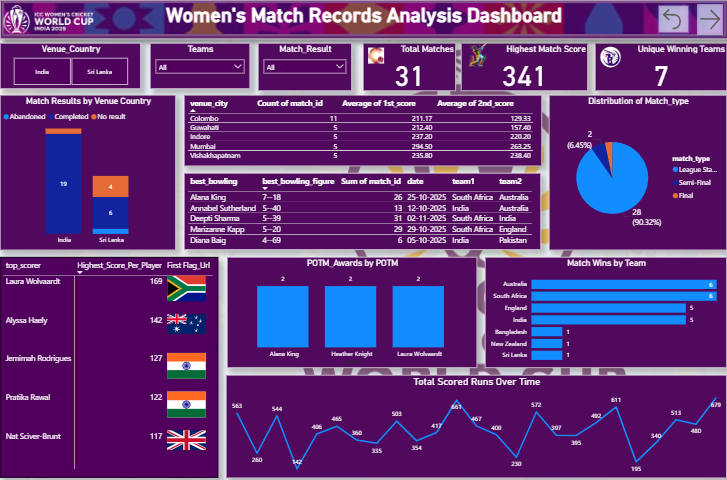

The page's visual inventory and layout, read from the dashboard file:
{"tool":"powerbi","page":{"name":"Match_Records","canvas":[1450,950],"ordinal":0},"visuals":[{"type":"image","box":[23.3,9.7,1407.6,71.7],"z":0},{"type":"card","title":"Total Matches","fields":{"Values":["match_records.match_id"]},"box":[725.1,93.1,180.3,93.1],"z":1000},{"type":"card","title":"Unique Winning Teams","fields":{"Values":["match_records.Unique_Winning_Team"]},"box":[1174.9,93.1,255.9,93.1],"z":2000},{"type":"card","title":"Highest Match Score","fields":{"Values":["match_records.2nd_score"]},"box":[915.1,93.1,246.2,93.1],"z":3000},{"type":"textbox","box":[21.3,9.7,1411.4,75.6],"z":4000},{"type":"pieChart","title":"Distribution of Match_type","fields":{"Category":["match_records.match_type"],"Y":["match_records.match_type"]},"box":[1085.7,193.9,345.1,300.5],"z":5000},{"type":"columnChart","title":"Match Results by Venue Country","fields":{"Category":["match_records.venue_country"],"Y":["match_records.result"],"Series":["match_records.result"]},"box":[21.3,193.9,341.2,300.5],"z":6000},{"type":"image","box":[1174.9,93.1,60.1,54.3],"z":7000},{"type":"tableEx","fields":{"Values":["match_records.venue_city","match_records.match_id","match_records.1st_score","match_records.2nd_score"]},"box":[378.1,193.9,694.1,137.7],"z":8000},{"type":"tableEx","fields":{"Values":["match_records.best_bowling","match_records.best_bowling_figure","match_records.match_id","match_records.date","match_records.team1","match_records.team2"]},"box":[378.1,345.1,692.1,149.3],"z":9000},{"type":"slicer","title":"Match_Result","fields":{"Values":["match_records.result"]},"box":[521.5,93.1,182.2,93.1],"z":10000},{"type":"slicer","title":"Venue_Country","fields":{"Values":["match_records.venue_country"]},"box":[21.3,93.1,273.4,89.2],"z":11000},{"type":"slicer","title":"Teams","fields":{"Values":["match_records.team1"]},"box":[312.1,93.1,193.9,89.2],"z":12000},{"type":"lineChart","title":"Total Scored Runs Over Time","fields":{"Category":["match_records.date"],"Y":["match_records.Total_Wins"]},"box":[459.5,736.7,971.3,199.7],"z":13000},{"type":"clusteredColumnChart","fields":{"Category":["match_records.POTM"],"Y":["match_records.POTM_Awards"]},"box":[461.4,508,484.7,215.2],"z":14000},{"type":"image","box":[915.1,85.3,62,62],"z":15000},{"type":"image","box":[727,96.9,46.5,40.7],"z":16000},{"type":"actionButton","box":[1364.9,9.7,65.9,75.6],"z":17000},{"type":"image","box":[23.3,11.6,184.2,71.7],"z":20000},{"type":"actionButton","box":[1289.3,11.6,75.6,69.8],"z":21000},{"type":"pivotTable","fields":{"Rows":["match_records.top_scorer"],"Values":["match_records.Highest_Score_Per_Player","Players.Flag_Url"]},"box":[21.3,508,422.7,428.5],"z":22000},{"type":"barChart","title":"Match Wins by Team","fields":{"Category":["match_records.winning_team"],"Y":["match_records.match_type"]},"box":[961.6,508,469.2,215.2],"z":23000}]}

Visuals, with their boxes in screenshot pixels (x1, y1, x2, y2), scaled from the page's 1450x950 canvas onto the 727x480 screenshot:
image: rect(12, 5, 717, 41)
"Total Matches" card: rect(364, 47, 454, 94)
"Unique Winning Teams" card: rect(589, 47, 717, 94)
"Highest Match Score" card: rect(459, 47, 582, 94)
textbox: rect(11, 5, 718, 43)
"Distribution of Match_type" pieChart: rect(544, 98, 717, 250)
"Match Results by Venue Country" columnChart: rect(11, 98, 182, 250)
image: rect(589, 47, 619, 74)
tableEx - match_records.venue_city x match_records.match_id: rect(190, 98, 538, 168)
tableEx - match_records.best_bowling x match_records.best_bowling_figure: rect(190, 174, 537, 250)
"Match_Result" slicer: rect(261, 47, 353, 94)
"Venue_Country" slicer: rect(11, 47, 148, 92)
"Teams" slicer: rect(156, 47, 254, 92)
"Total Scored Runs Over Time" lineChart: rect(230, 372, 717, 473)
clusteredColumnChart - match_records.POTM x match_records.POTM_Awards: rect(231, 257, 474, 365)
image: rect(459, 43, 490, 74)
image: rect(365, 49, 388, 70)
actionButton: rect(684, 5, 717, 43)
image: rect(12, 6, 104, 42)
actionButton: rect(646, 6, 684, 41)
pivotTable - match_records.top_scorer x match_records.Highest_Score_Per_Player: rect(11, 257, 223, 473)
"Match Wins by Team" barChart: rect(482, 257, 717, 365)
